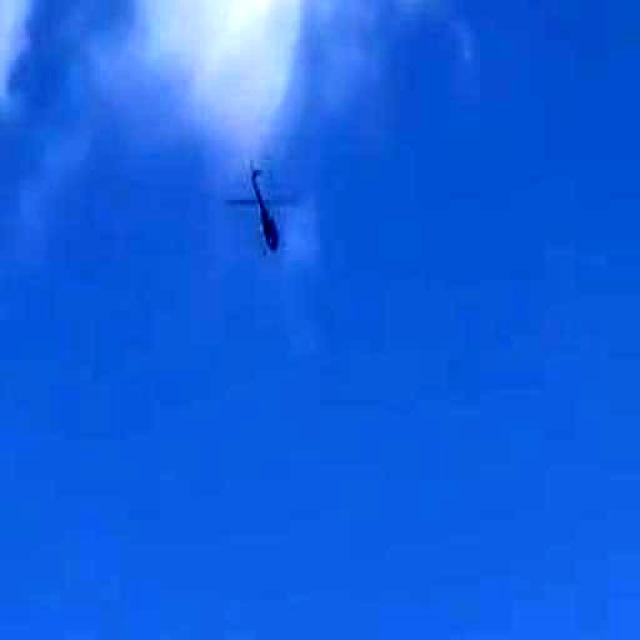drone: (208, 139, 321, 279)
